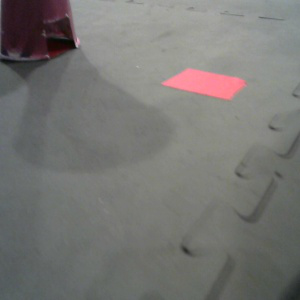middle: (1, 1, 82, 65)
